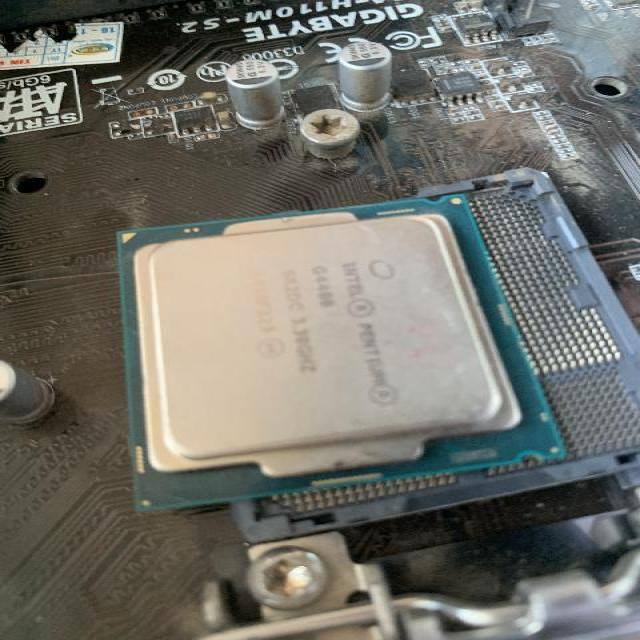CPU: (112, 192, 565, 511)
Mainboard: (0, 1, 640, 639)
